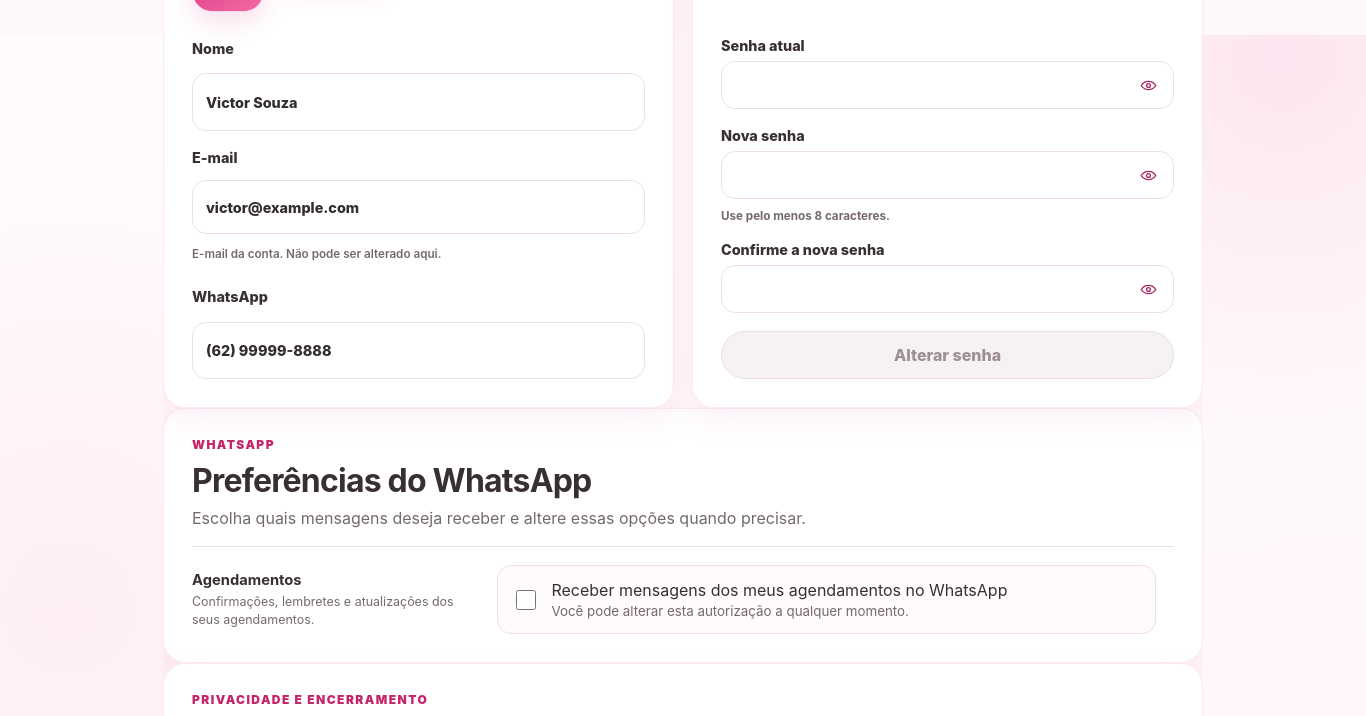
Scenario: minha conta › só mostra salvar perfil após alteração e envia WhatsApp sem máscara
(page scrolled)
Expected: the button "Salvar perfil" is not shown
Replace the text in the field labelled "WhatsApp" with "11 98765-4321": (418, 351) [192,322,645,380]
(page scrolled)
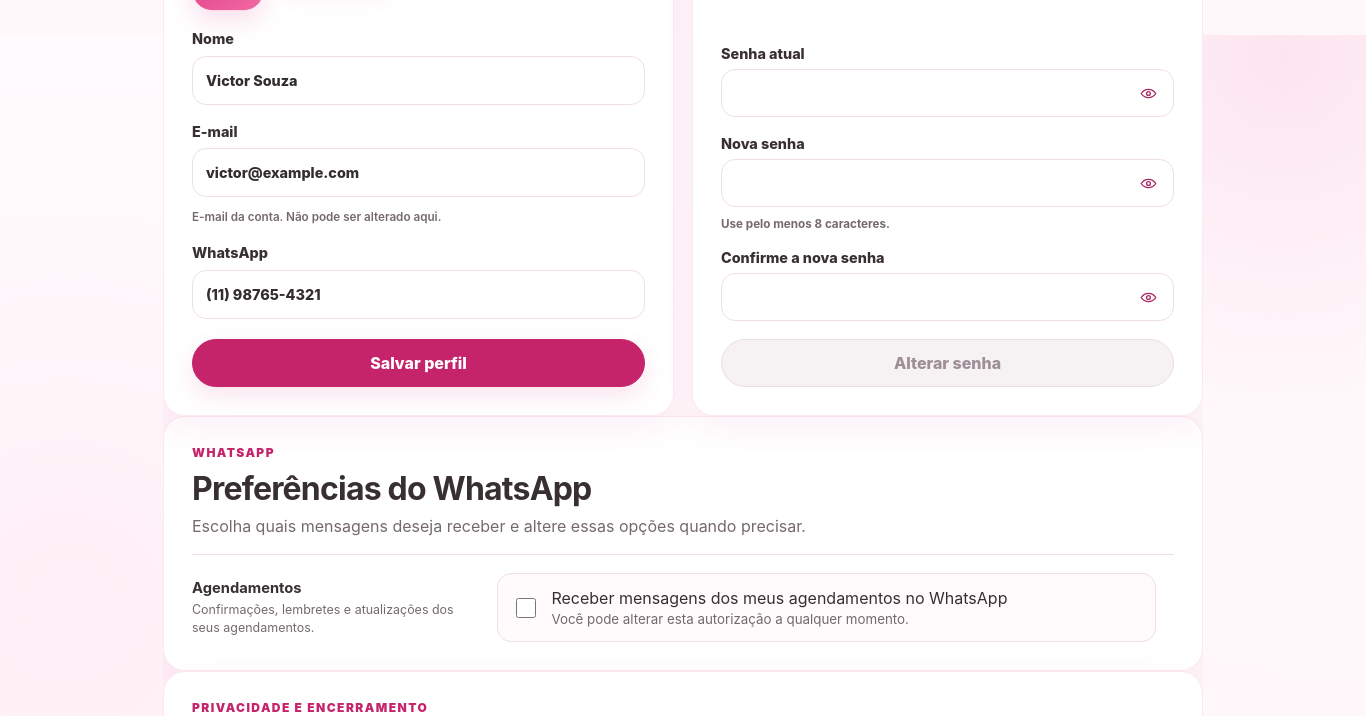
Result: the button "Salvar perfil" is enabled
Click the button "Salvar perfil": (418, 364) [192,340,645,388]
(page scrolled)
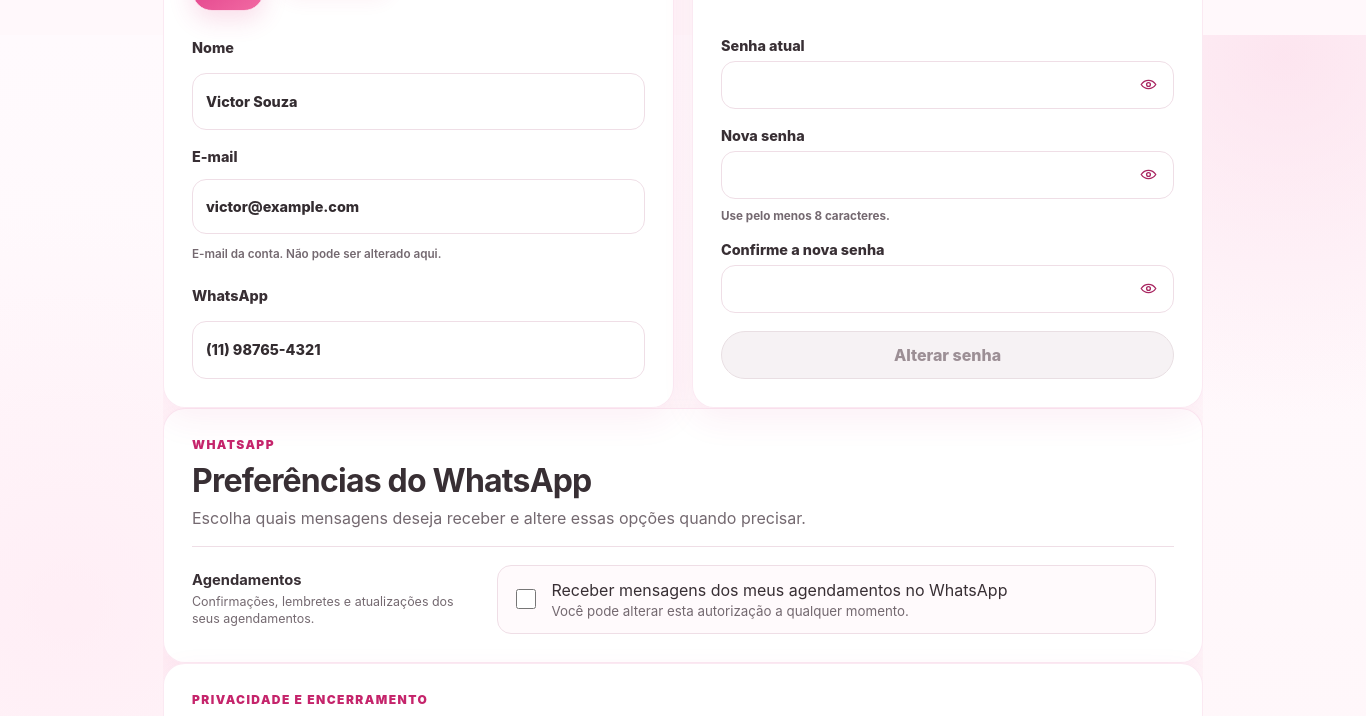
Result: the button "Salvar perfil" is gone
